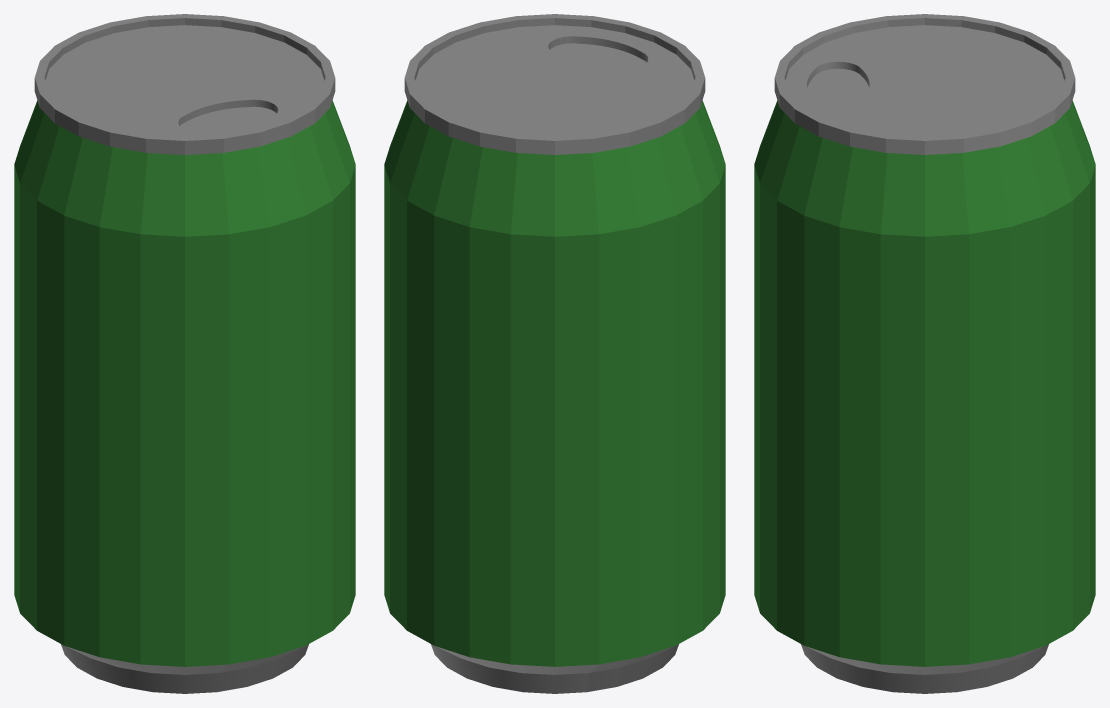
File: Canned Beer.fbx
The picture shows the model from 3 angles, left to right: view 1: azimuth 30°, elevation 25°; view 2: azimuth 150°, elevation 25°; view 3: azimuth 270°, elevation 25°; orthographic projection.
Visible parts, largest first — view 1: Group1; view 2: Group1; view 3: Group1.
Boxes of the visible parts, x1,y1,x2,y2 form: Group1: [14, 14, 355, 693]; Group1: [384, 14, 725, 693]; Group1: [754, 14, 1095, 693].
Bounding box in the file's own units: 2.74 × 5 × 2.74.
